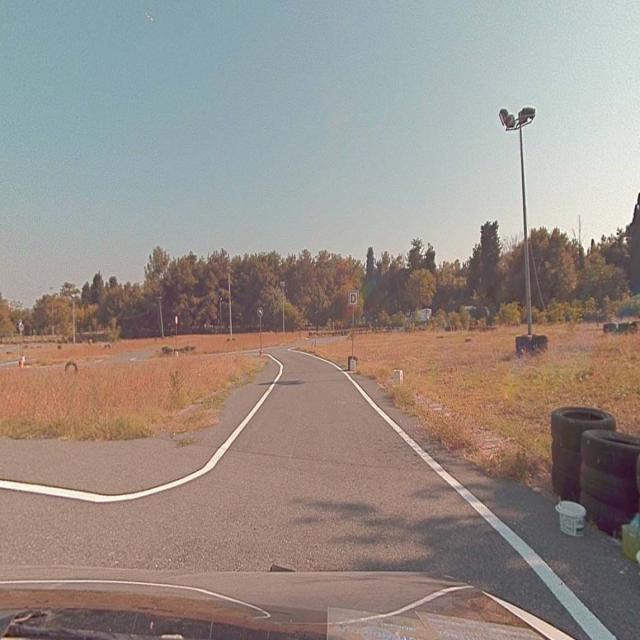durak: (349, 292, 358, 306)
sol: (257, 307, 263, 316)
